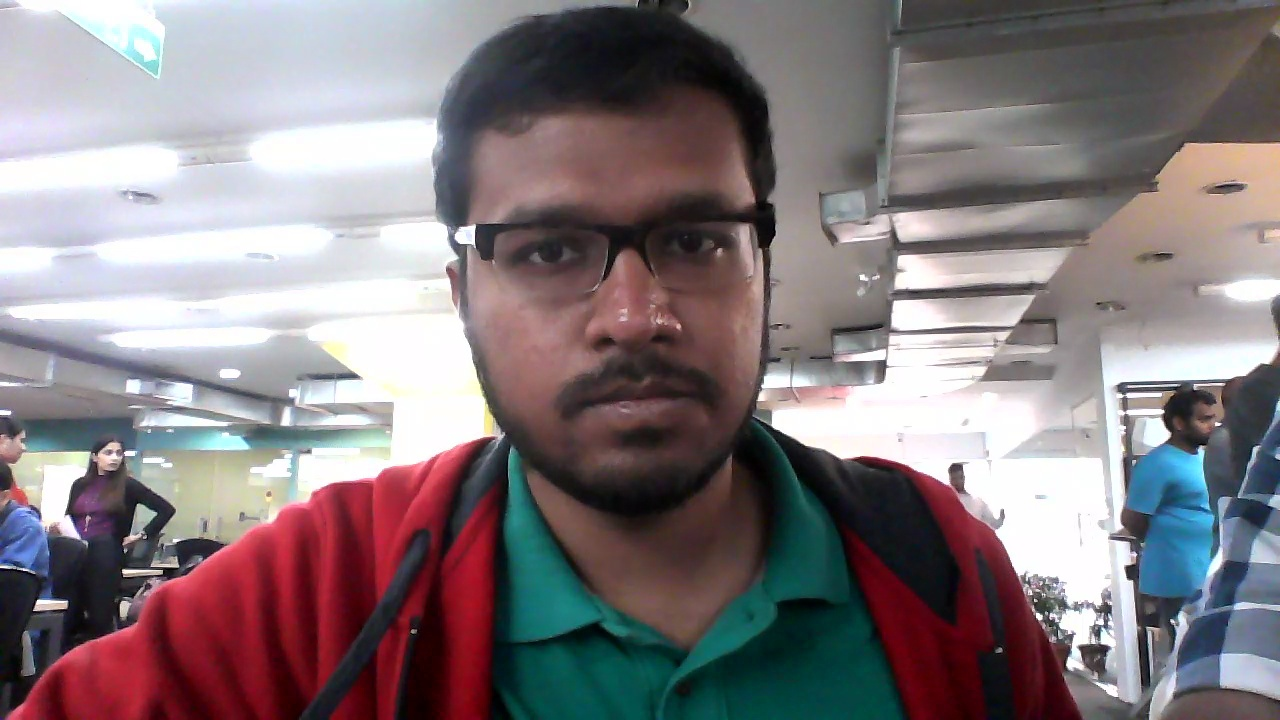open: (437, 8, 792, 519)
